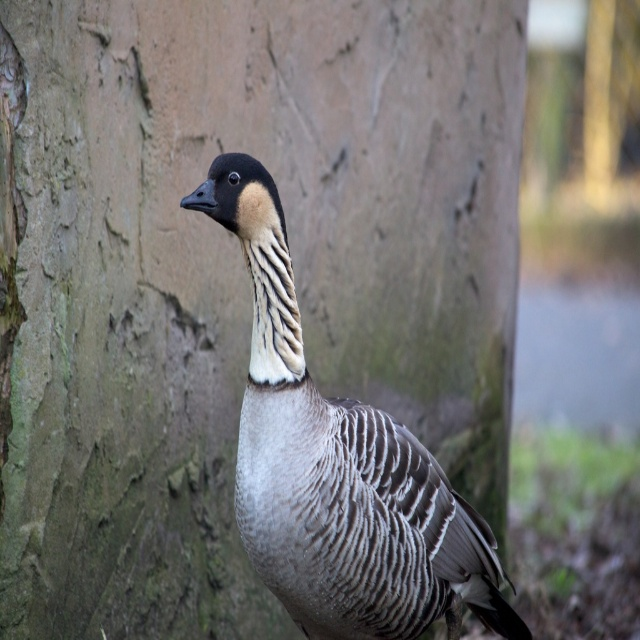Duck: (193, 162, 521, 640)
